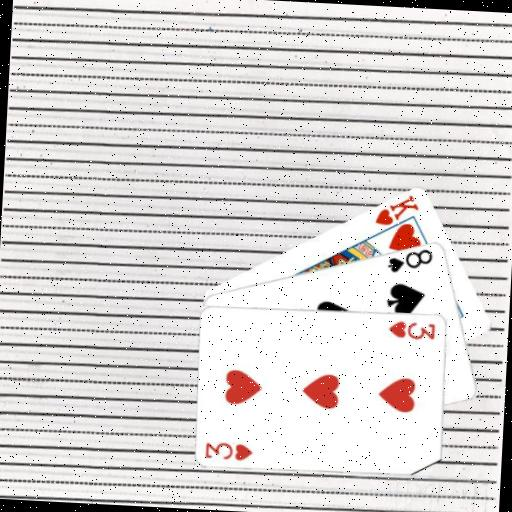3H: (386, 317, 438, 342), (203, 438, 255, 463)
8S: (384, 243, 435, 276)
KH: (372, 190, 421, 229)
